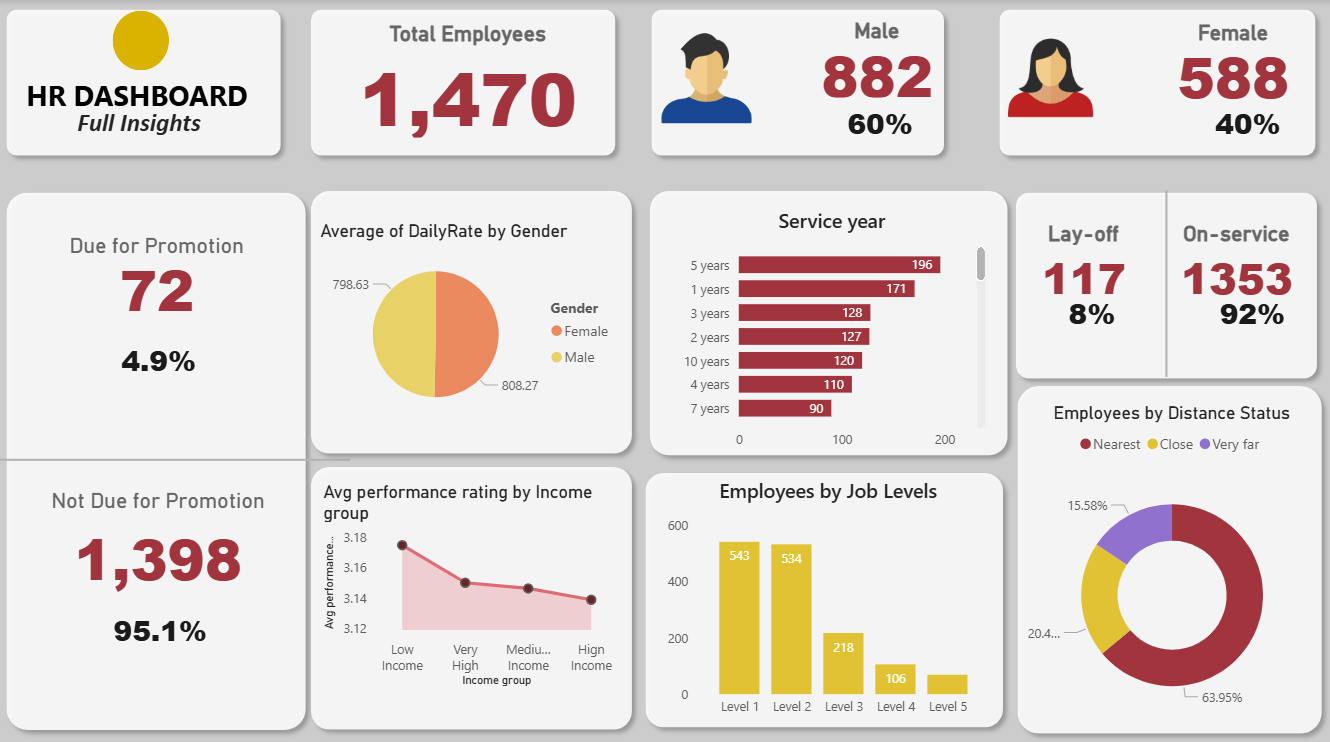

What the dashboard file says about the page in this screenshot:
{"tool":"powerbi","page":{"name":"HR_Review_Dashboard","canvas":[1280,720],"ordinal":0},"visuals":[{"type":"shape","box":[0,0,279.9,157.5],"z":0},{"type":"shape","box":[291.1,0,308.6,157.5],"z":1000},{"type":"shape","box":[615.6,0,297.4,157.5],"z":2000},{"type":"shape","box":[0,175,303.8,531.3],"z":3000},{"type":"shape","box":[614,173.4,359.5,270.4],"z":4000},{"type":"shape","box":[610.8,442.2,359.5,260.9],"z":5000},{"type":"shape","box":[963.9,175,305.4,195.6],"z":6000},{"type":"shape","box":[965.5,359.5,308.6,349.9],"z":7000},{"type":"textbox","box":[23.3,67.9,227.5,46.1],"z":8000},{"type":"shape","box":[948,0,319.7,157.5],"z":9000},{"type":"textbox","box":[59.9,98.1,151.1,39.8],"z":10000},{"type":"shape","box":[110.8,10.6,54.1,57.3],"z":11000},{"type":"card","title":"Total Employees","fields":{"Values":["All Measures.Total Number of Employess"]},"box":[337.2,20.7,225.9,116.1],"z":12000},{"type":"card","title":"Male","fields":{"Values":["All Measures.% male"]},"box":[765.1,81.1,155.9,73.2],"z":13000},{"type":"card","title":"Male","fields":{"Values":["All Measures.Male"]},"box":[739.6,17.5,202,81.1],"z":14000},{"type":"card","title":"Female","fields":{"Values":["All Measures.Female"]},"box":[1108.7,19.1,143.2,81.1],"z":15000},{"type":"card","title":"Male","fields":{"Values":["All Measures.% female"]},"box":[1134.1,81.1,119.3,73.2],"z":16000},{"type":"image","box":[634.7,23.9,85.9,100.2],"z":17000},{"type":"image","box":[965.5,19.1,81.1,111.3],"z":18000},{"type":"card","title":"Due for Promotion","fields":{"Values":["All Measures.Due for promotion"]},"box":[22.3,222.7,259.3,81.1],"z":19000},{"type":"card","title":"Male","fields":{"Values":["All Measures.Due %"]},"box":[81.1,319.7,144.7,50.9],"z":20000},{"type":"card","title":"Not Due for Promotion","fields":{"Values":["All Measures.Not Due"]},"box":[35,466,238.6,106.6],"z":21000},{"type":"card","title":"Male","fields":{"Values":["All Measures.Not Due %"]},"box":[82.7,572.6,144.7,58.9],"z":22000},{"type":"shape","box":[0,410.4,337.2,58.9],"z":23000},{"type":"barChart","title":"Service year","fields":{"Category":["HR Analytics Data.Service year"],"Y":["All Measures.Total Number of Employess"]},"box":[645.8,197.2,302.2,240.2],"z":24000},{"type":"columnChart","title":"Employess by Job Levels","fields":{"Category":["HR Analytics Data.Job Levels"],"Y":["All Measures.Total Number of Employess"]},"box":[634.7,454.9,318.1,237],"z":25000},{"type":"card","title":"On-service","fields":{"Values":["All Measures.On-service"]},"box":[1100.7,210,167,84.3],"z":26000},{"type":"card","title":"Male","fields":{"Values":["All Measures.% on-service"]},"box":[1138.9,264,119.3,73.2],"z":27000},{"type":"card","title":"Lay-off","fields":{"Values":["All Measures.Lay-off"]},"box":[954.4,210,167,84.3],"z":28000},{"type":"card","title":"Male","fields":{"Values":["All Measures.% Lay-off"]},"box":[986.2,264,119.3,73.2],"z":29000},{"type":"shape","box":[1035.5,181.3,162.2,178.1],"z":30000},{"type":"donutChart","title":" Employees by Distance Status","fields":{"Category":["HR Analytics Data.Distance Status"],"Y":["All Measures.Total Number of Employess"]},"box":[975,383.3,292.7,319.7],"z":31000},{"type":"shape","box":[291.1,173.4,324.5,268.8],"z":32000},{"type":"pieChart","fields":{"Category":["HR Analytics Data.Gender"],"Y":["Avg(HR Analytics Data.DailyRate)"]},"box":[303.8,210,295.9,197.2],"z":33000},{"type":"shape","box":[291.1,437.4,324.5,268.8],"z":34000},{"type":"areaChart","fields":{"Category":["HR Analytics Data.Income group"],"Y":["All Measures.Avg performance rating"]},"box":[307,459.7,292.7,200.4],"z":35000}]}

Visuals, with their boxes in screenshot pixels (x1, y1, x2, y2), scaled from the page's 1280x720 canvas onto the 1330x742 screenshot:
shape: crop(0, 0, 291, 162)
shape: crop(302, 0, 623, 162)
shape: crop(640, 0, 949, 162)
shape: crop(0, 180, 316, 728)
shape: crop(638, 179, 1012, 457)
shape: crop(635, 456, 1008, 725)
shape: crop(1002, 180, 1319, 382)
shape: crop(1003, 370, 1324, 731)
textbox: crop(24, 70, 261, 117)
shape: crop(985, 0, 1317, 162)
textbox: crop(62, 101, 219, 142)
shape: crop(115, 11, 171, 70)
"Total Employees" card: crop(350, 21, 585, 141)
"Male" card: crop(795, 84, 957, 159)
"Male" card: crop(768, 18, 978, 102)
"Female" card: crop(1152, 20, 1301, 103)
"Male" card: crop(1178, 84, 1302, 159)
image: crop(659, 25, 749, 128)
image: crop(1003, 20, 1087, 134)
"Due for Promotion" card: crop(23, 230, 293, 313)
"Male" card: crop(84, 329, 235, 382)
"Not Due for Promotion" card: crop(36, 480, 284, 590)
"Male" card: crop(86, 590, 236, 651)
shape: crop(0, 423, 350, 484)
"Service year" barChart: crop(671, 203, 985, 451)
"Employess by Job Levels" columnChart: crop(659, 469, 990, 713)
"On-service" card: crop(1144, 216, 1317, 303)
"Male" card: crop(1183, 272, 1307, 348)
"Lay-off" card: crop(992, 216, 1165, 303)
"Male" card: crop(1025, 272, 1149, 348)
shape: crop(1076, 187, 1244, 370)
" Employees by Distance Status" donutChart: crop(1013, 395, 1317, 724)
shape: crop(302, 179, 640, 456)
pieChart - HR Analytics Data.Gender x Avg(HR Analytics Data.DailyRate): crop(316, 216, 623, 420)
shape: crop(302, 451, 640, 728)
areaChart - HR Analytics Data.Income group x All Measures.Avg performance rating: crop(319, 474, 623, 680)
